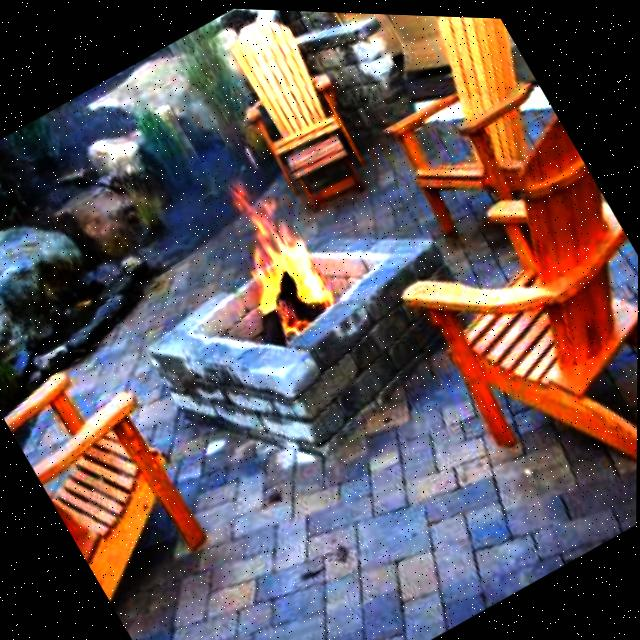Fire: (216, 193, 333, 334)
